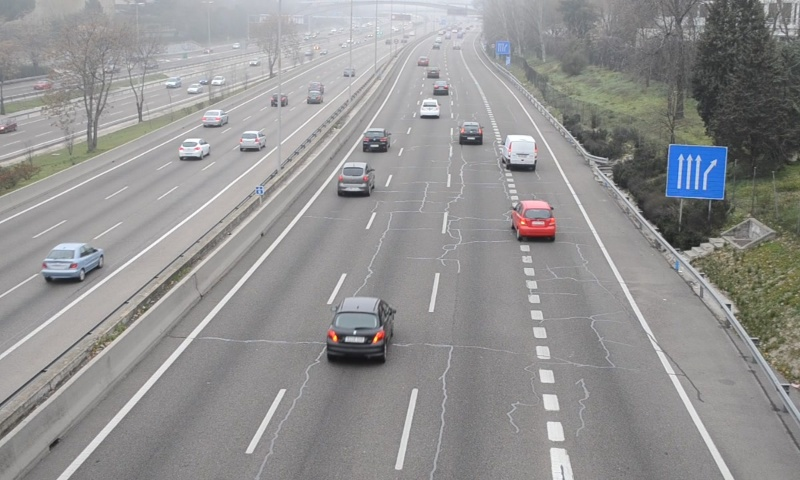car: (326, 296, 394, 359), (514, 199, 555, 237), (337, 161, 374, 194), (362, 128, 392, 153), (458, 121, 484, 144), (418, 96, 441, 117), (433, 78, 448, 95)
van: (504, 134, 536, 168)
